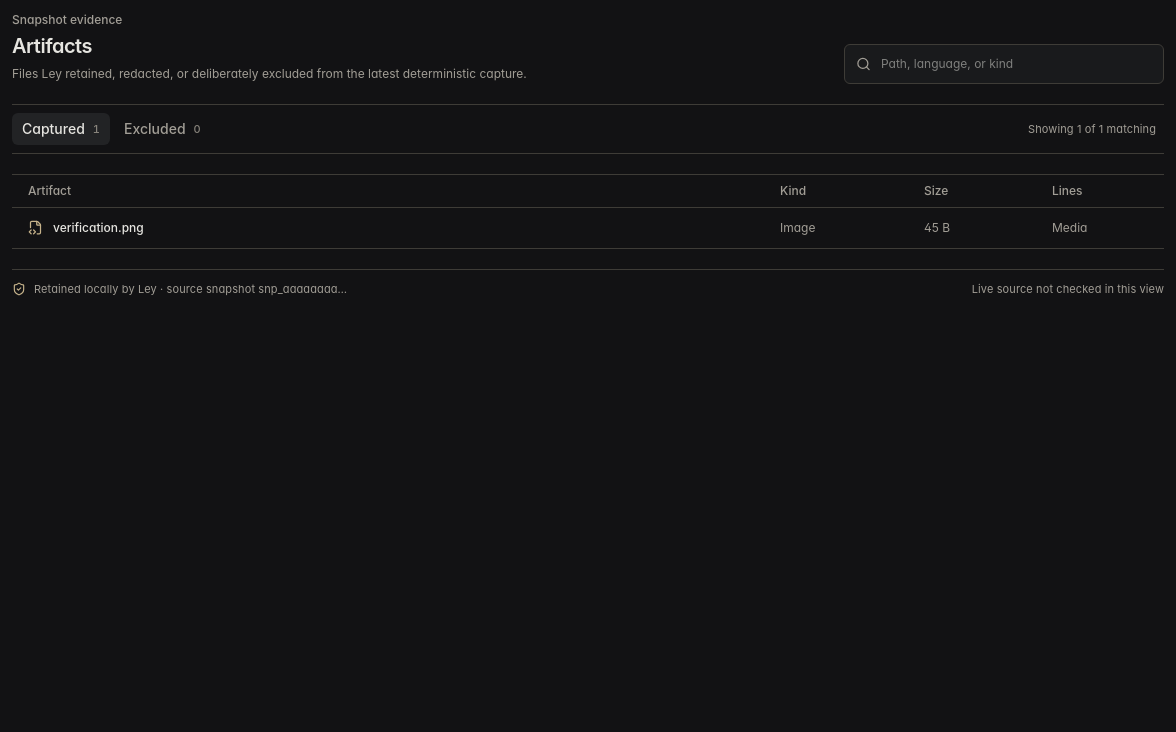
Test: ArtifactExplorer multimodal evidence › loads original media only after an explicit browse action
Expected: the text "Retained locally by Ley · source snapshot snp_aaaaaaaa…" is shown, [12,282,347,296]
Step 1. Click the text "verification.png" → {"x": 98, "y": 228}, box [53,220,144,236]
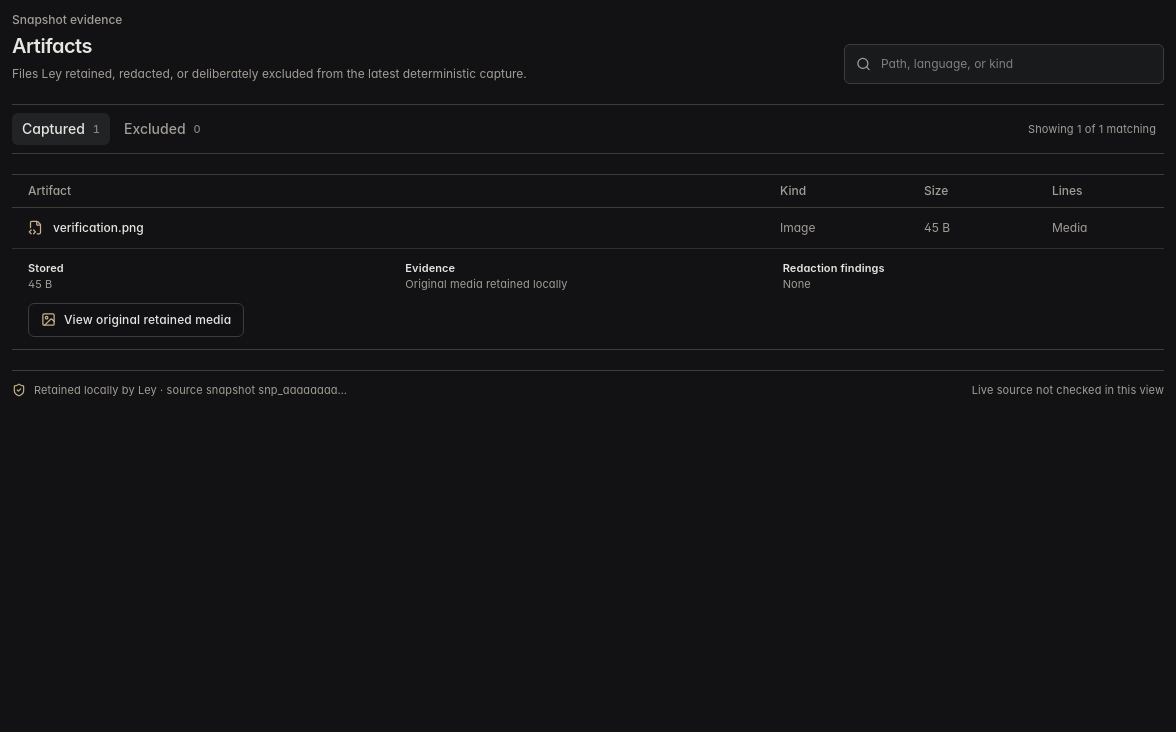
Step 2. Click the button "View original retained media" → {"x": 136, "y": 320}, box [28,302,244,336]
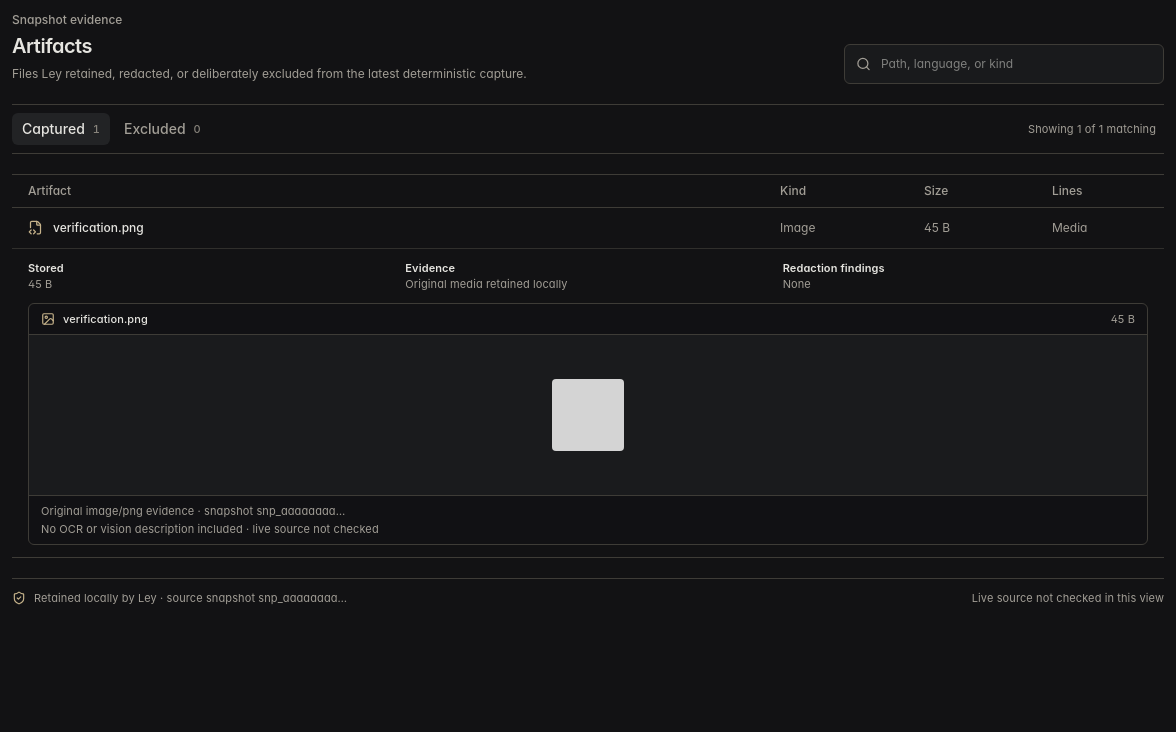
Now the text "live source not checked" is shown, box [41,522,379,536]
